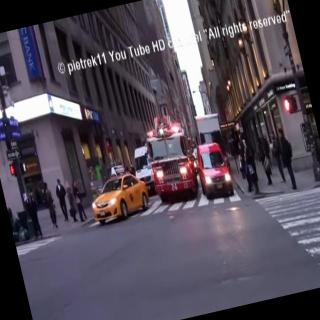Fire_truck: (138, 109, 204, 206)
